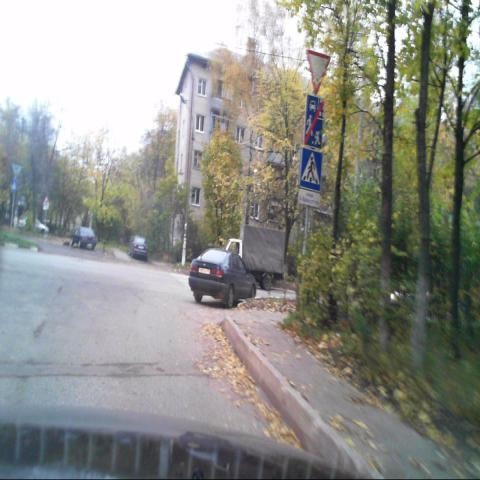5_22: (303, 96, 323, 150)
